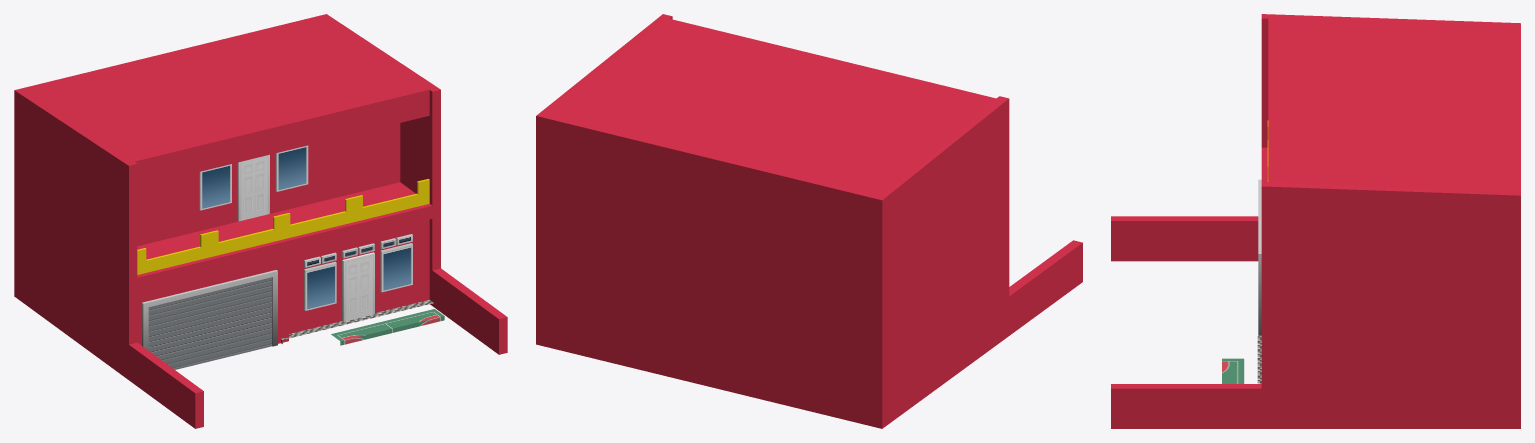
File: TetanggaBesar1.fbx
3 views of the same model, side by side, from view 1: azimuth 30°, elevation 25°; view 2: azimuth 150°, elevation 25°; view 3: azimuth 270°, elevation 25° (orthographic). The views are drawn at different scales.
Parts seen in each view (by area): view 1: Body1NPCT1_LOD0, Body2NPCT1_LOD0; view 2: Body1NPCT1_LOD0; view 3: Body1NPCT1_LOD0.
Part boxes in pixels (bbox=[...]): Body1NPCT1_LOD0: bbox=[14, 14, 507, 428]; Body2NPCT1_LOD0: bbox=[137, 179, 429, 274]; Body1NPCT1_LOD0: bbox=[536, 14, 1082, 428]; Body1NPCT1_LOD0: bbox=[1111, 14, 1520, 428].
Size of what is drawn, in the model's own units: 1338 by 878 by 1344.
